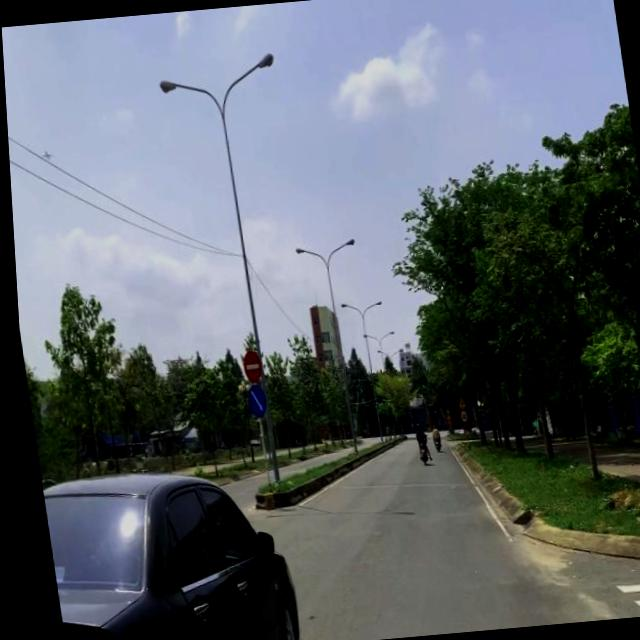Cam di nguoc chieu: (236, 348, 259, 384)
Giao nhau voi duong khong uu tien ben phai: (452, 394, 462, 408)
Toc do toi da cho phep: (454, 410, 464, 422)
Vong chuong ngai vat sang phai: (241, 383, 263, 419)
